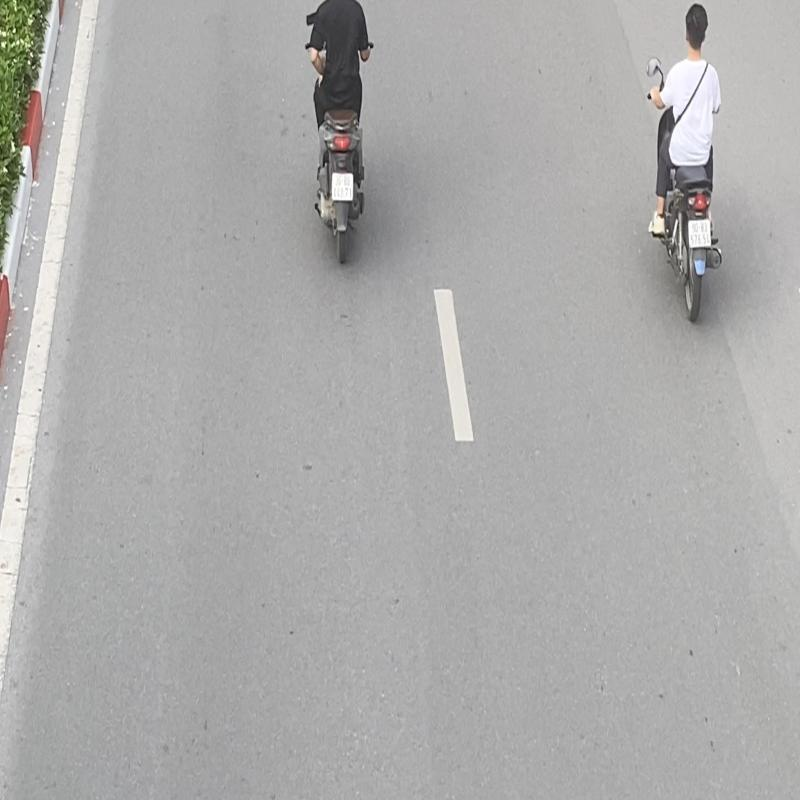licenseplate: (688, 218, 712, 248)
motorcyclist: (644, 0, 729, 329)
nohelmet: (684, 3, 710, 57)
